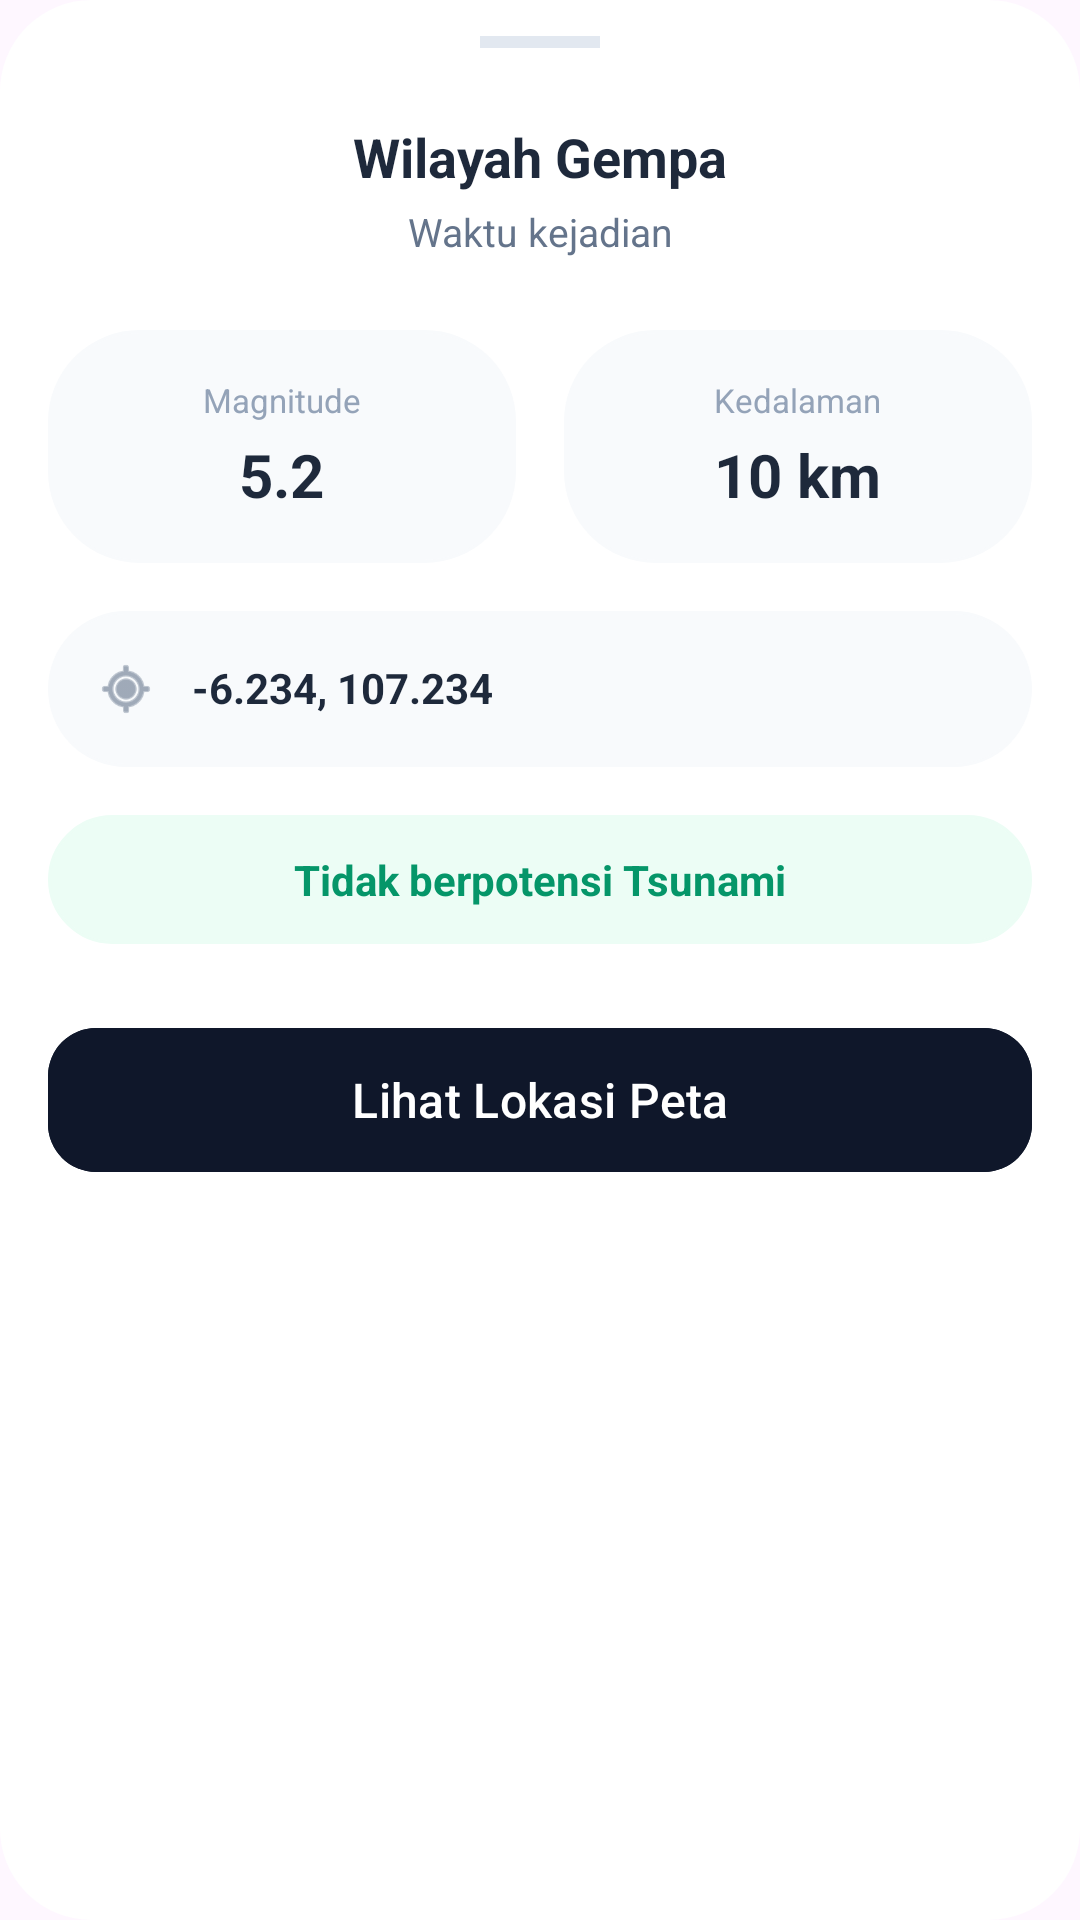

Icon click points for this 1080px×1920px phone screenshot, format (x=x, y=y):
mylocation: (x=126, y=689)
